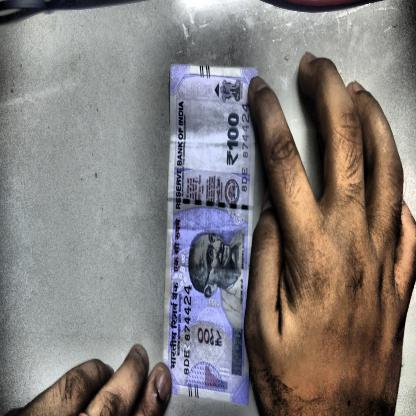Rs100: (223, 107, 243, 172)
